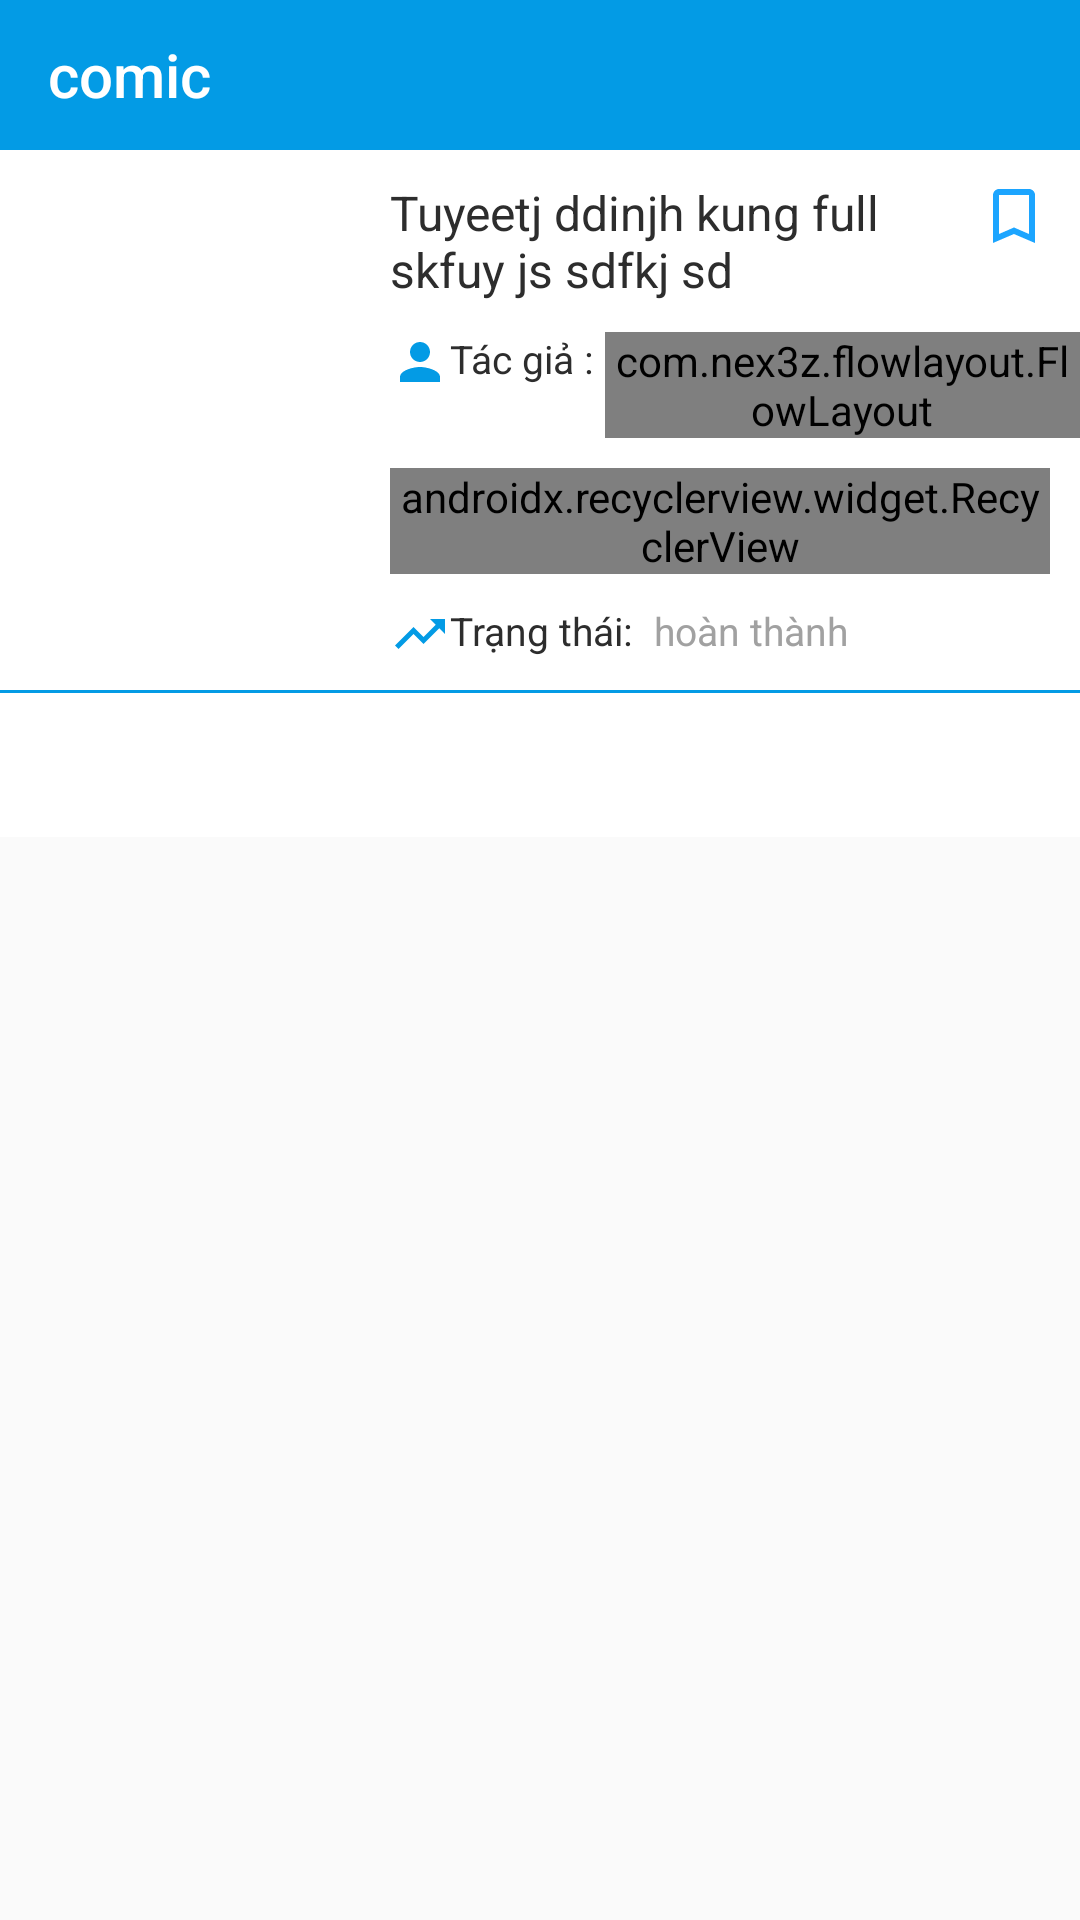

Where to tap for icons on this 1080x1920 app screen, as (x,y):
bookmark border: (1014,216)
person: (420,362)
trending up: (420,634)
